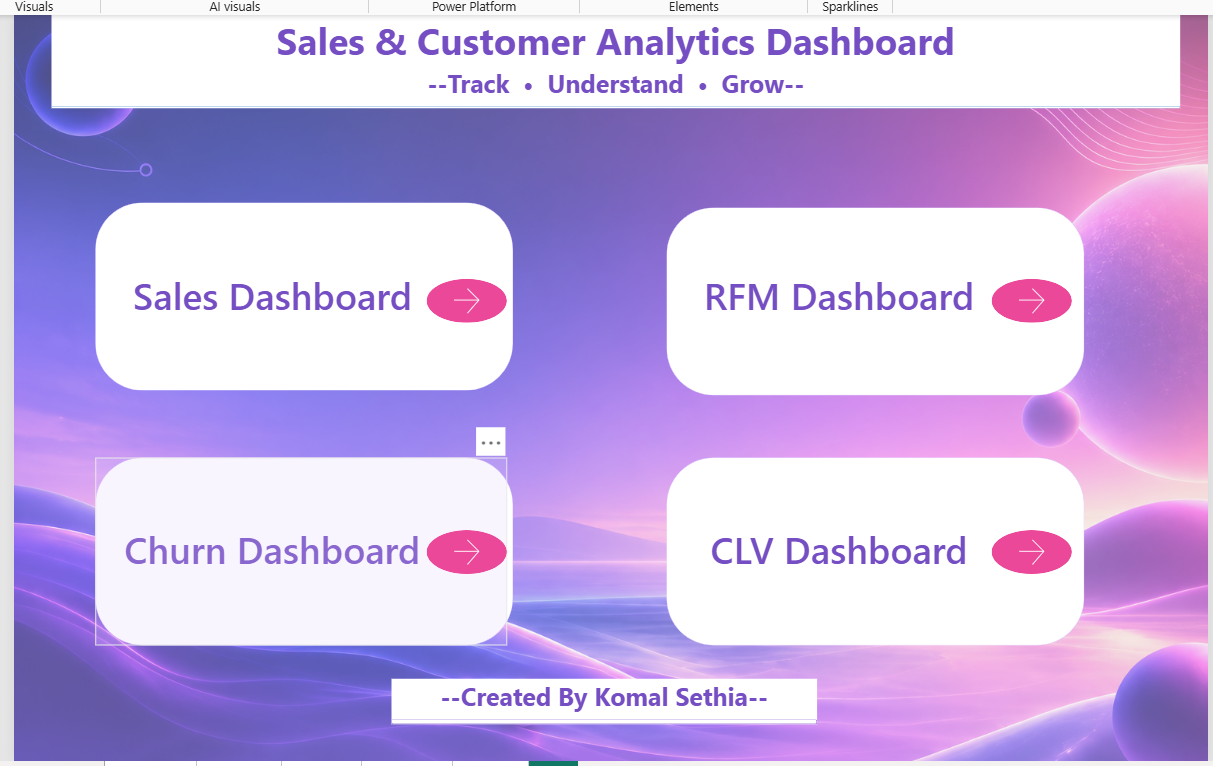

The page's visual inventory and layout, read from the dashboard file:
{"tool":"powerbi","page":{"name":"Home","canvas":[2560,1600],"ordinal":0},"visuals":[{"type":"shape","box":[175.3,403.5,896,403.5],"z":0},{"type":"textbox","box":[175.3,548.2,756.9,128],"z":1000},{"type":"actionButton","box":[884.9,564.9,172.5,94.6],"z":2000},{"type":"actionButton","box":[175.3,403.5,896,397.9],"z":3000},{"type":"shape","box":[1400,413,896,403],"z":4000},{"type":"textbox","box":[1424.7,548.2,670.6,128],"z":5000},{"type":"actionButton","box":[1399.7,395.1,896,425.7],"z":6000},{"type":"shape","box":[175,950,896,403],"z":7000},{"type":"textbox","box":[200.3,1090.8,684.5,155.8],"z":8000},{"type":"actionButton","box":[175.3,948.9,882.1,403.5],"z":9000},{"type":"shape","box":[1400,950,896,403],"z":10000},{"type":"textbox","box":[1424.7,1090.8,670.6,128],"z":11000},{"type":"actionButton","box":[1399.7,948.9,896,403.5],"z":12000},{"type":"shape","title":"Sales & Customer Analytics Dashboard","box":[80.7,0,2420.9,200.3],"z":13000},{"type":"actionButton","box":[2095.3,564.9,172.5,94.6],"z":14000},{"type":"actionButton","box":[884.9,1104.7,172.5,94.6],"z":15000},{"type":"actionButton","box":[2095.3,1104.7,172.5,94.6],"z":16000},{"type":"shape","title":"--Created By Komal Sethia--","box":[809.7,1424.7,912.7,97.4],"z":16001}]}

Visuals, with their boxes on the page's 2560x1600 design canvas (x1, y1, x2, y2). These are canvas units, not pixel positions in the 1213x766 screenshot, which may show the page scaled, cropped or inside an application window:
shape: [left=175, top=404, right=1071, bottom=807]
textbox: [left=175, top=548, right=932, bottom=676]
actionButton: [left=885, top=565, right=1057, bottom=660]
actionButton: [left=175, top=404, right=1071, bottom=801]
shape: [left=1400, top=413, right=2296, bottom=816]
textbox: [left=1425, top=548, right=2095, bottom=676]
actionButton: [left=1400, top=395, right=2296, bottom=821]
shape: [left=175, top=950, right=1071, bottom=1353]
textbox: [left=200, top=1091, right=885, bottom=1247]
actionButton: [left=175, top=949, right=1057, bottom=1352]
shape: [left=1400, top=950, right=2296, bottom=1353]
textbox: [left=1425, top=1091, right=2095, bottom=1219]
actionButton: [left=1400, top=949, right=2296, bottom=1352]
"Sales & Customer Analytics Dashboard" shape: [left=81, top=0, right=2502, bottom=200]
actionButton: [left=2095, top=565, right=2268, bottom=660]
actionButton: [left=885, top=1105, right=1057, bottom=1199]
actionButton: [left=2095, top=1105, right=2268, bottom=1199]
"--Created By Komal Sethia--" shape: [left=810, top=1425, right=1722, bottom=1522]
